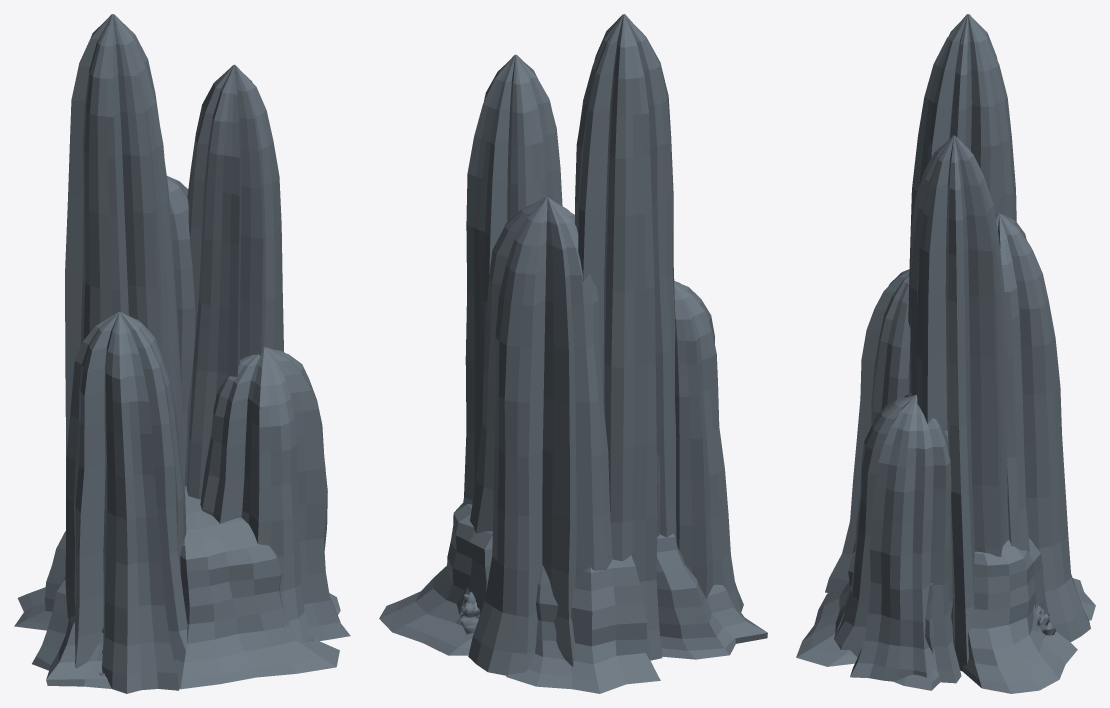
Rendered from peak-distant-b.glb.
3 renders of one model, left to right at view 1: azimuth 30°, elevation 25°; view 2: azimuth 150°, elevation 25°; view 3: azimuth 270°, elevation 25°, orthographic. The views are drawn at different scales.
Parts seen in each view (by area): view 1: peak-distant-b_Stone; view 2: peak-distant-b_Stone; view 3: peak-distant-b_Stone.
Part boxes in pixels (box(x1,y1,x2,y2)): peak-distant-b_Stone: box(14, 14, 350, 693); peak-distant-b_Stone: box(379, 14, 767, 693); peak-distant-b_Stone: box(796, 14, 1095, 693).
Bounding box in the file's own units: 14.97 × 28 × 13.07.
